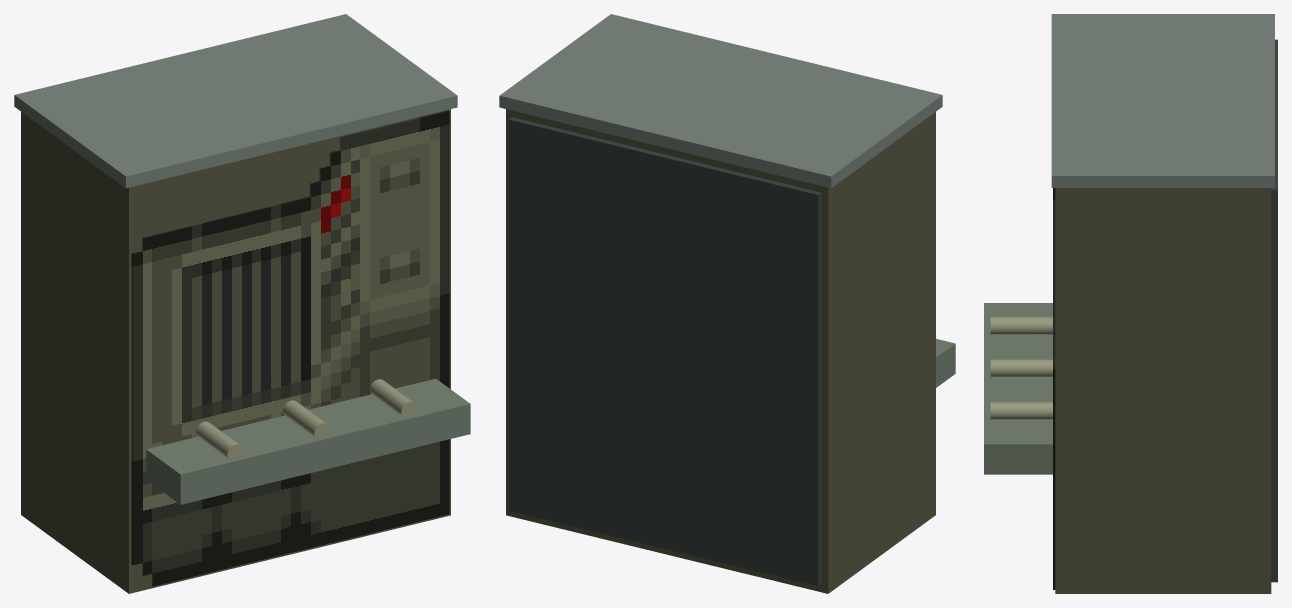
The model's file is CMU3DInteriorVehicleSPPAPCAmmoLoader.glb.
3 views of the same model, side by side, from view 1: azimuth 30°, elevation 25°; view 2: azimuth 150°, elevation 25°; view 3: azimuth 270°, elevation 25° (orthographic).
Parts seen in each view (by area): view 1: source equipment controls, closed equipment casing, reinforced top, loading tray, feed roller (×3); view 2: rear service plate, closed equipment casing, reinforced top, loading tray; view 3: closed equipment casing, reinforced top, loading tray, feed roller (×3), rear service plate, source equipment controls.
Boxes of the visible parts, x1,y1,x2,y2 form: source equipment controls: (131,110,449,586); closed equipment casing: (21,109,450,593); reinforced top: (14,14,457,188); loading tray: (146,378,470,504); feed roller (×3): (196,379,417,459); rear service plate: (509,117,821,586); closed equipment casing: (506,109,935,593); reinforced top: (499,14,942,188); loading tray: (936,339,955,387); closed equipment casing: (1055,188,1271,593); reinforced top: (1051,14,1274,187); loading tray: (984,303,1052,474); feed roller (×3): (990,316,1052,419); rear service plate: (1271,39,1277,582); source equipment controls: (1053,188,1055,589).
Bounding box in the file's own units: 1.03 × 1.25 × 0.7894.
Materials: 6 (1 with a texture image).
